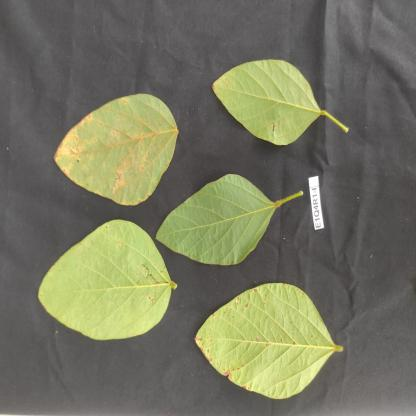label: (304, 169, 328, 243)
leaflets: (31, 215, 177, 350), (194, 279, 346, 400), (51, 90, 179, 203), (202, 51, 332, 154), (158, 166, 286, 269)
